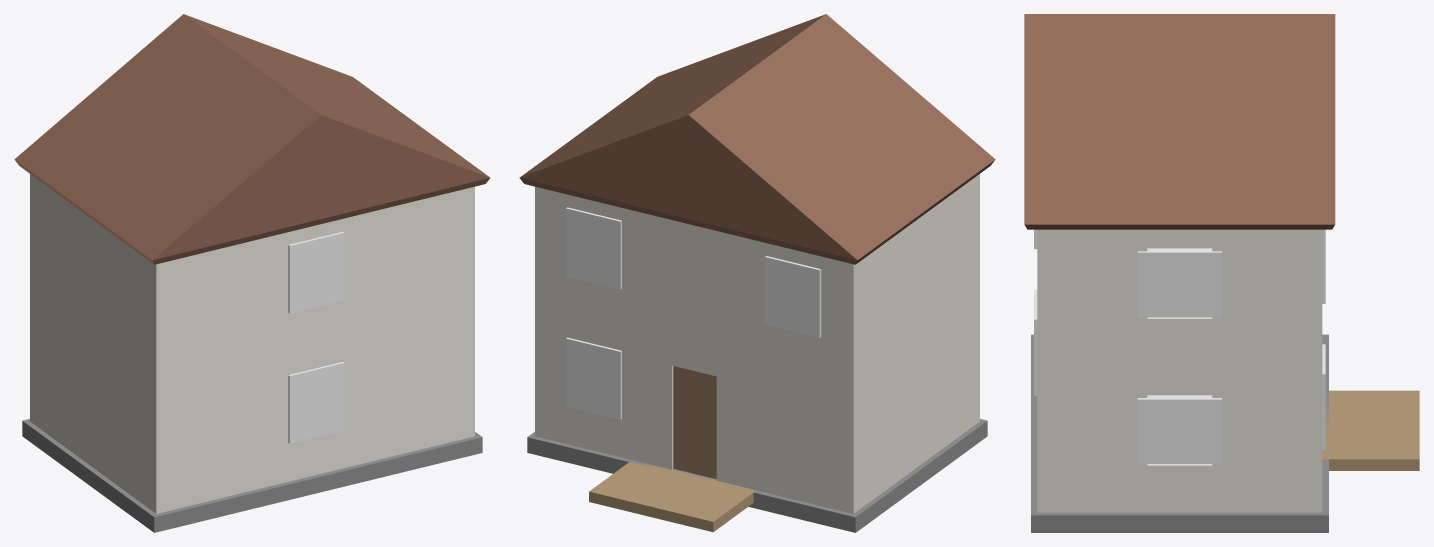
The model's file is rectangular-model-two-floor.glb.
3 renders of one model, left to right at view 1: azimuth 30°, elevation 25°; view 2: azimuth 150°, elevation 25°; view 3: azimuth 270°, elevation 25°, orthographic. The views are drawn at different scales.
Parts seen in each view (by area): view 1: Roof, Back_Wall_Floor1, Back_Wall_Floor2, Left_Wall_Floor1, Left_Wall_Floor2, Foundation, Window_Frame_F2_Back, Window_Frame_F1_Back, Right_Wall_Floor1, Right_Wall_Floor2; view 2: Roof, Front_Wall_Floor1, Front_Wall_Floor2, Left_Wall_Floor1, Left_Wall_Floor2, Terrace, Foundation, Door, Window_Frame_F2_Front_Left, Window_Frame_F1_Front_Right, Window_Frame_F2_Front_Right, Right_Wall_Floor1 (+1 smaller); view 3: Roof, Right_Wall_Floor1, Right_Wall_Floor2, Foundation, Terrace, Window_Frame_F2_Right, Window_Frame_F1_Right.
Part boxes in pixels (bbox=[...]): Roof: bbox=[14, 14, 490, 264]; Back_Wall_Floor1: bbox=[166, 308, 464, 511]; Back_Wall_Floor2: bbox=[166, 189, 464, 381]; Left_Wall_Floor1: bbox=[30, 291, 166, 513]; Left_Wall_Floor2: bbox=[30, 174, 166, 383]; Foundation: bbox=[22, 419, 482, 532]; Window_Frame_F2_Back: bbox=[288, 231, 344, 313]; Window_Frame_F1_Back: bbox=[288, 362, 344, 443]; Right_Wall_Floor1: bbox=[465, 306, 474, 438]; Right_Wall_Floor2: bbox=[465, 186, 474, 308]; Roof: bbox=[519, 14, 995, 264]; Front_Wall_Floor1: bbox=[545, 308, 843, 511]; Front_Wall_Floor2: bbox=[545, 189, 843, 381]; Left_Wall_Floor1: bbox=[843, 291, 979, 513]; Left_Wall_Floor2: bbox=[843, 174, 979, 383]; Terrace: bbox=[589, 462, 755, 532]; Foundation: bbox=[527, 419, 987, 532]; Door: bbox=[673, 366, 716, 478]; Window_Frame_F2_Front_Left: bbox=[765, 256, 821, 337]; Window_Frame_F1_Front_Right: bbox=[566, 337, 621, 419]; Window_Frame_F2_Front_Right: bbox=[566, 207, 621, 289]; Right_Wall_Floor1: bbox=[535, 306, 544, 438]; Roof: bbox=[1024, 14, 1335, 229]; Right_Wall_Floor1: bbox=[1037, 366, 1322, 512]; Right_Wall_Floor2: bbox=[1037, 229, 1322, 365]; Foundation: bbox=[1031, 334, 1328, 532]; Terrace: bbox=[1322, 390, 1419, 470]; Window_Frame_F2_Right: bbox=[1137, 248, 1221, 317]; Window_Frame_F1_Right: bbox=[1137, 395, 1221, 463].
Size of the model in its own units: 6.8 by 7.3 by 6.1.
